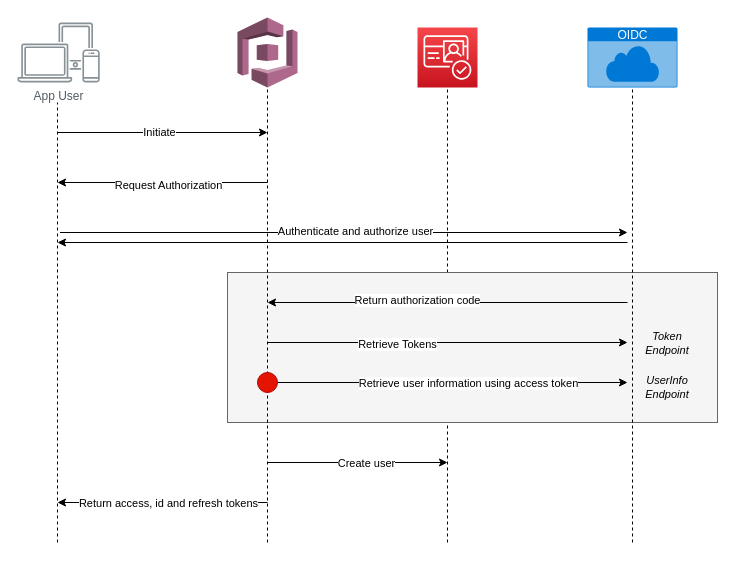
Image size: 735x561. Some labels were removed from this diagram. Each missing label, with the centre of its shape:
Cognito: pixel 267 52
Userpool: pixel 447 57
